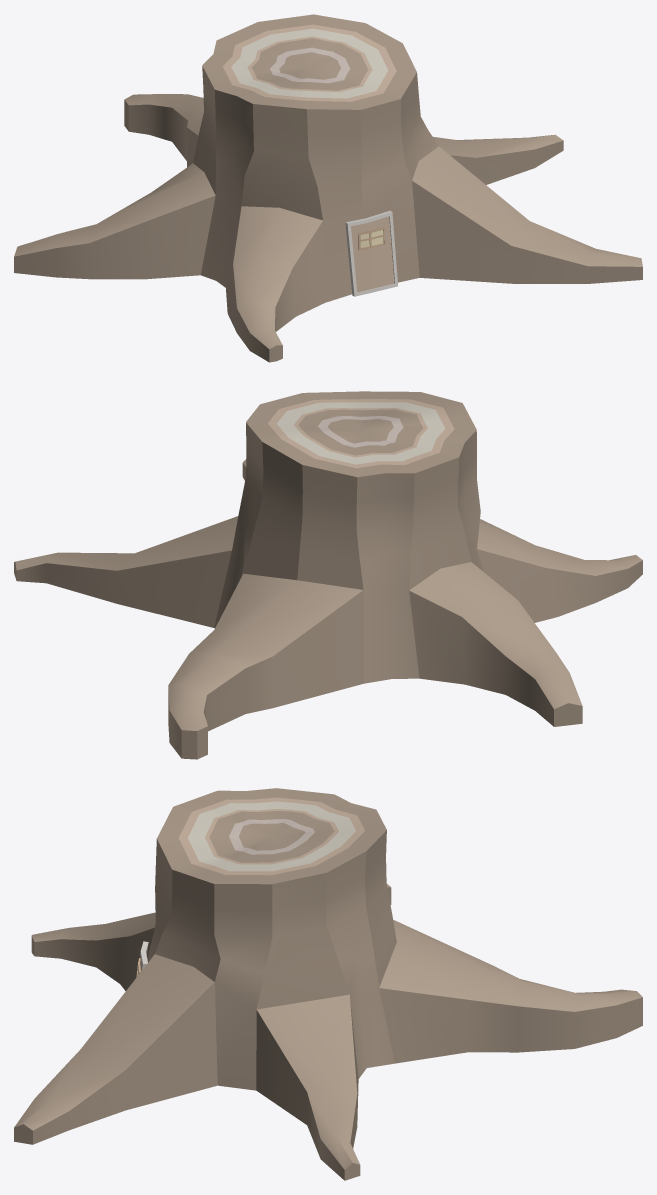
The model's file is Trunk.fbx.
3 views of the same model, one above another, from view 1: azimuth 30°, elevation 25°; view 2: azimuth 150°, elevation 25°; view 3: azimuth 270°, elevation 25° (orthographic). The views are drawn at different scales.
Visible parts, largest first — view 1: Trunk; view 2: Trunk; view 3: Trunk.
Boxes of the visible parts, box(x1,y1,x2,y2) form: Trunk: box(14, 14, 642, 362); Trunk: box(14, 391, 642, 759); Trunk: box(14, 788, 642, 1180).
Bounding box in the file's own units: 392 × 130 × 367.
